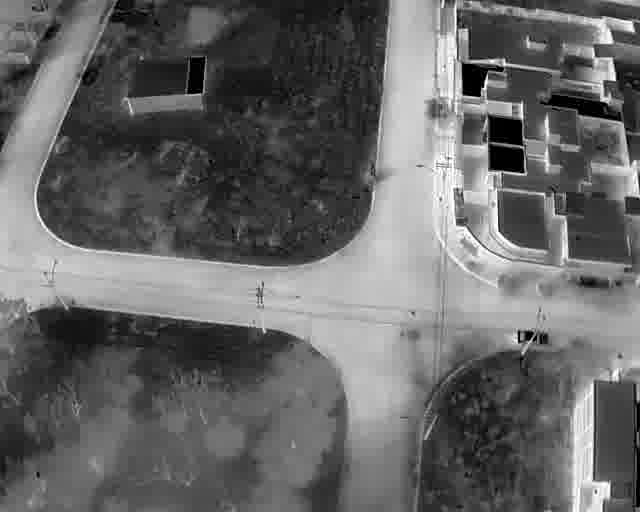car: (516, 328, 550, 345)
